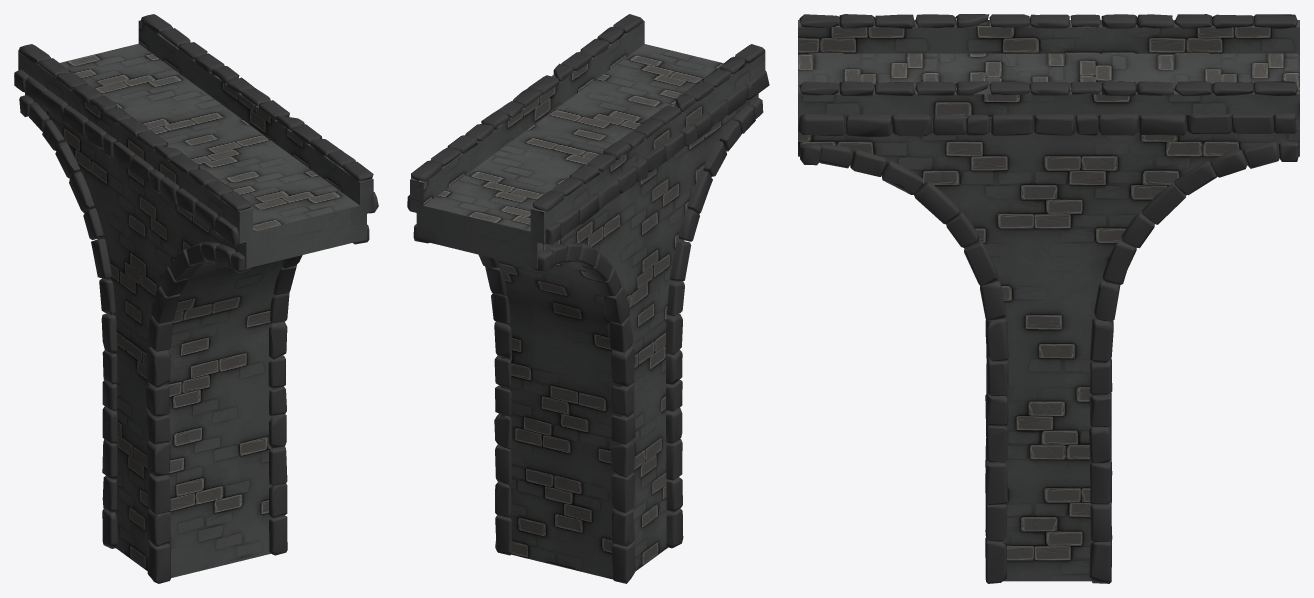
File: SM_Bridge_01.FBX
The picture shows the model from 3 angles, left to right: view 1: azimuth 30°, elevation 25°; view 2: azimuth 150°, elevation 25°; view 3: azimuth 270°, elevation 25°; orthographic projection. The views are drawn at different scales.
Visible parts, largest first — view 1: SM_Bridge_01_LOD0; view 2: SM_Bridge_01_LOD0; view 3: SM_Bridge_01_LOD0.
Part boxes in pixels (x1,y1,x2,y2): SM_Bridge_01_LOD0: (14, 14, 378, 583); SM_Bridge_01_LOD0: (407, 14, 769, 583); SM_Bridge_01_LOD0: (798, 14, 1299, 583).
Bounding box in the file's own units: 544 × 1401 × 1537.
